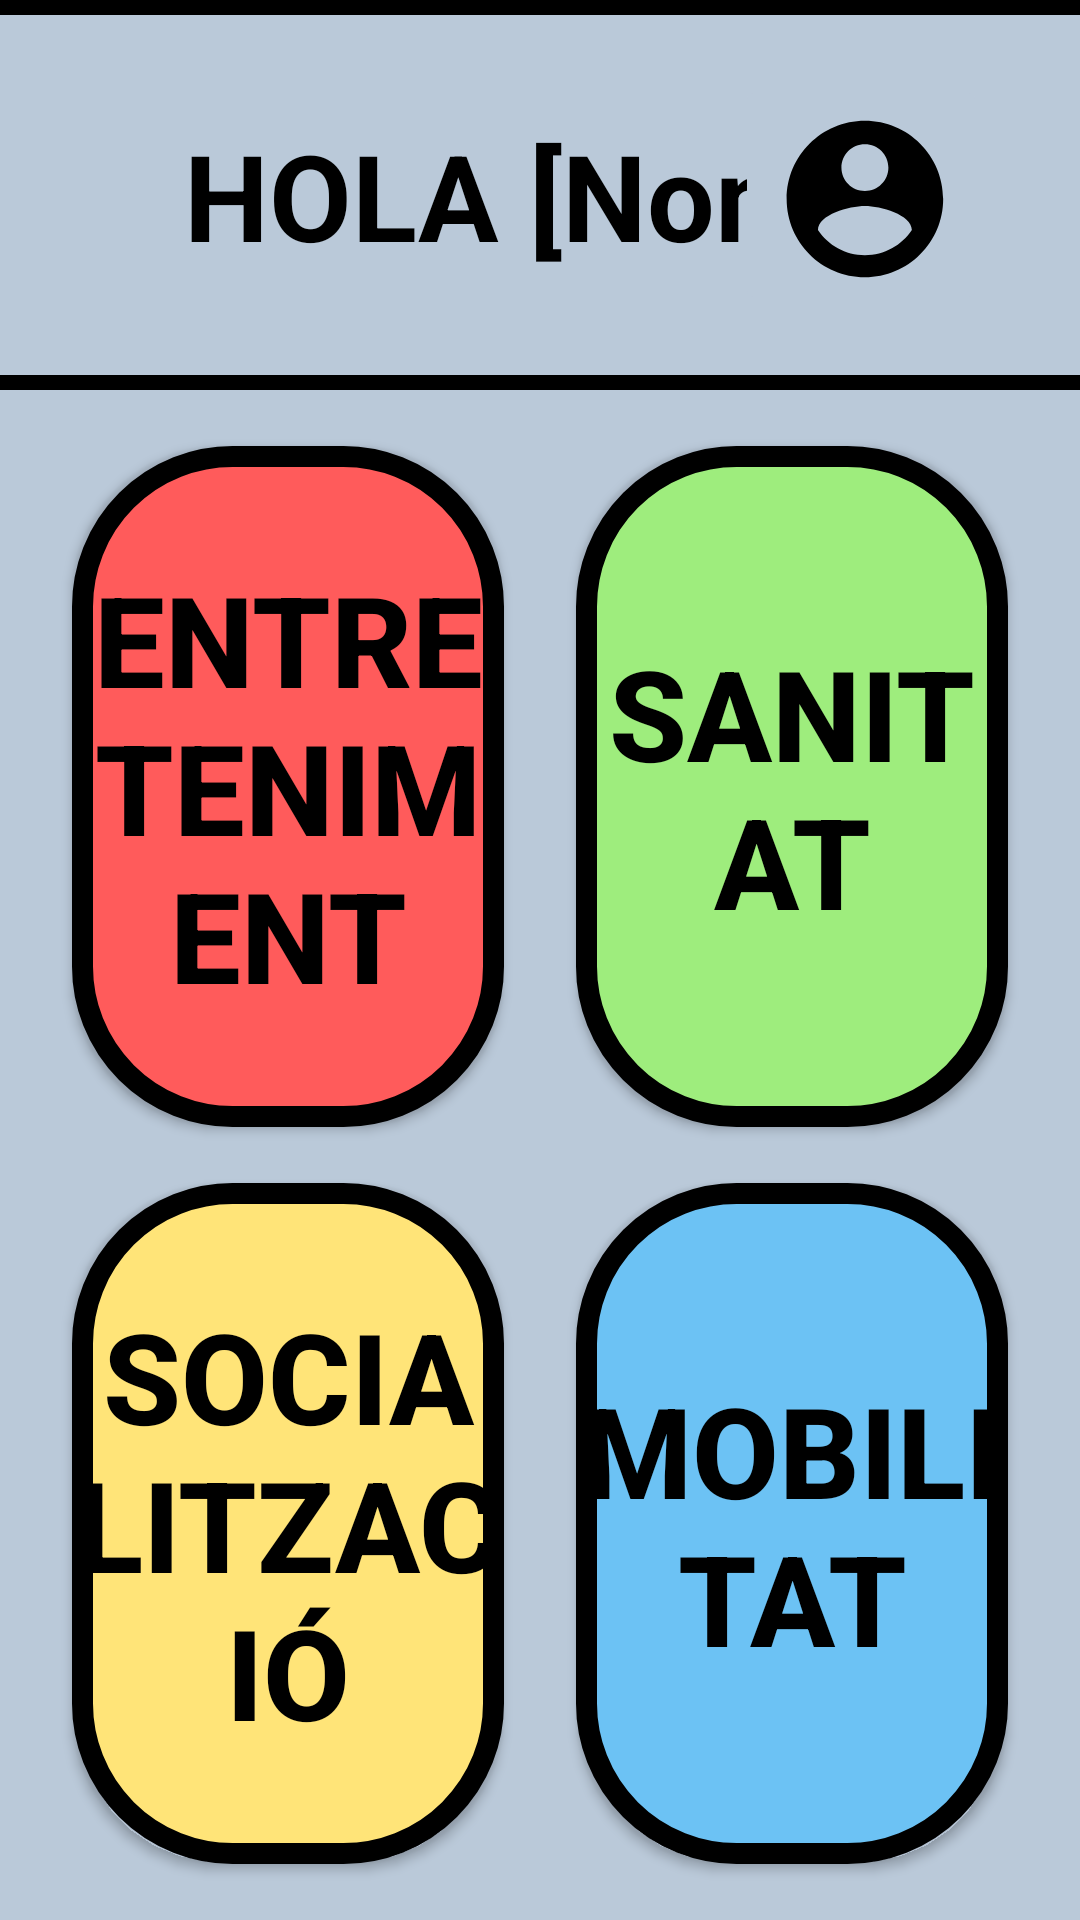

Named icons in this screenshot (1080px x 1920px) and their centers, [x,y]:
account circle: [865,199]
